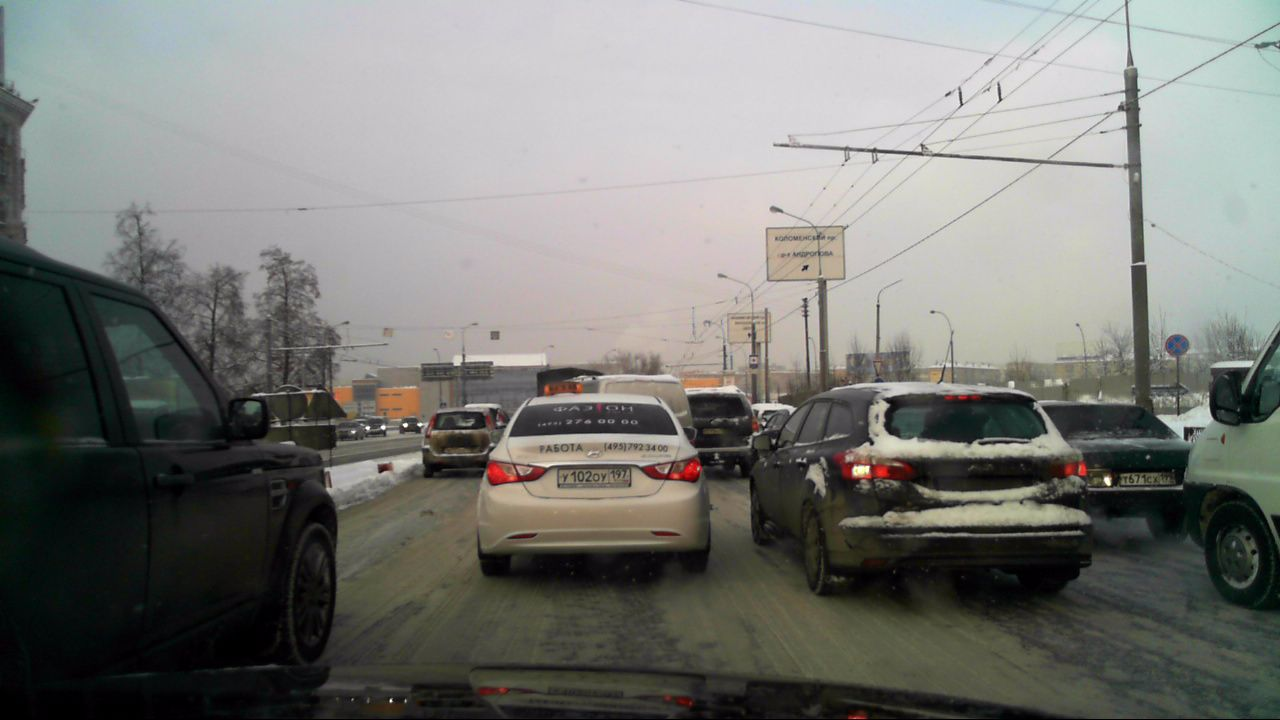No Parking: (1164, 328, 1193, 361)
